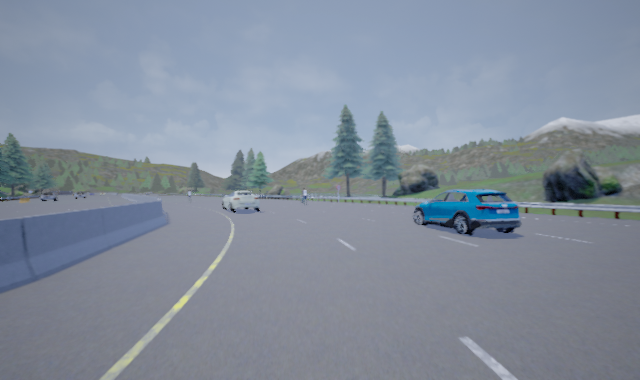vehicle: (411, 187, 522, 236), (220, 190, 262, 214), (41, 192, 56, 203)
